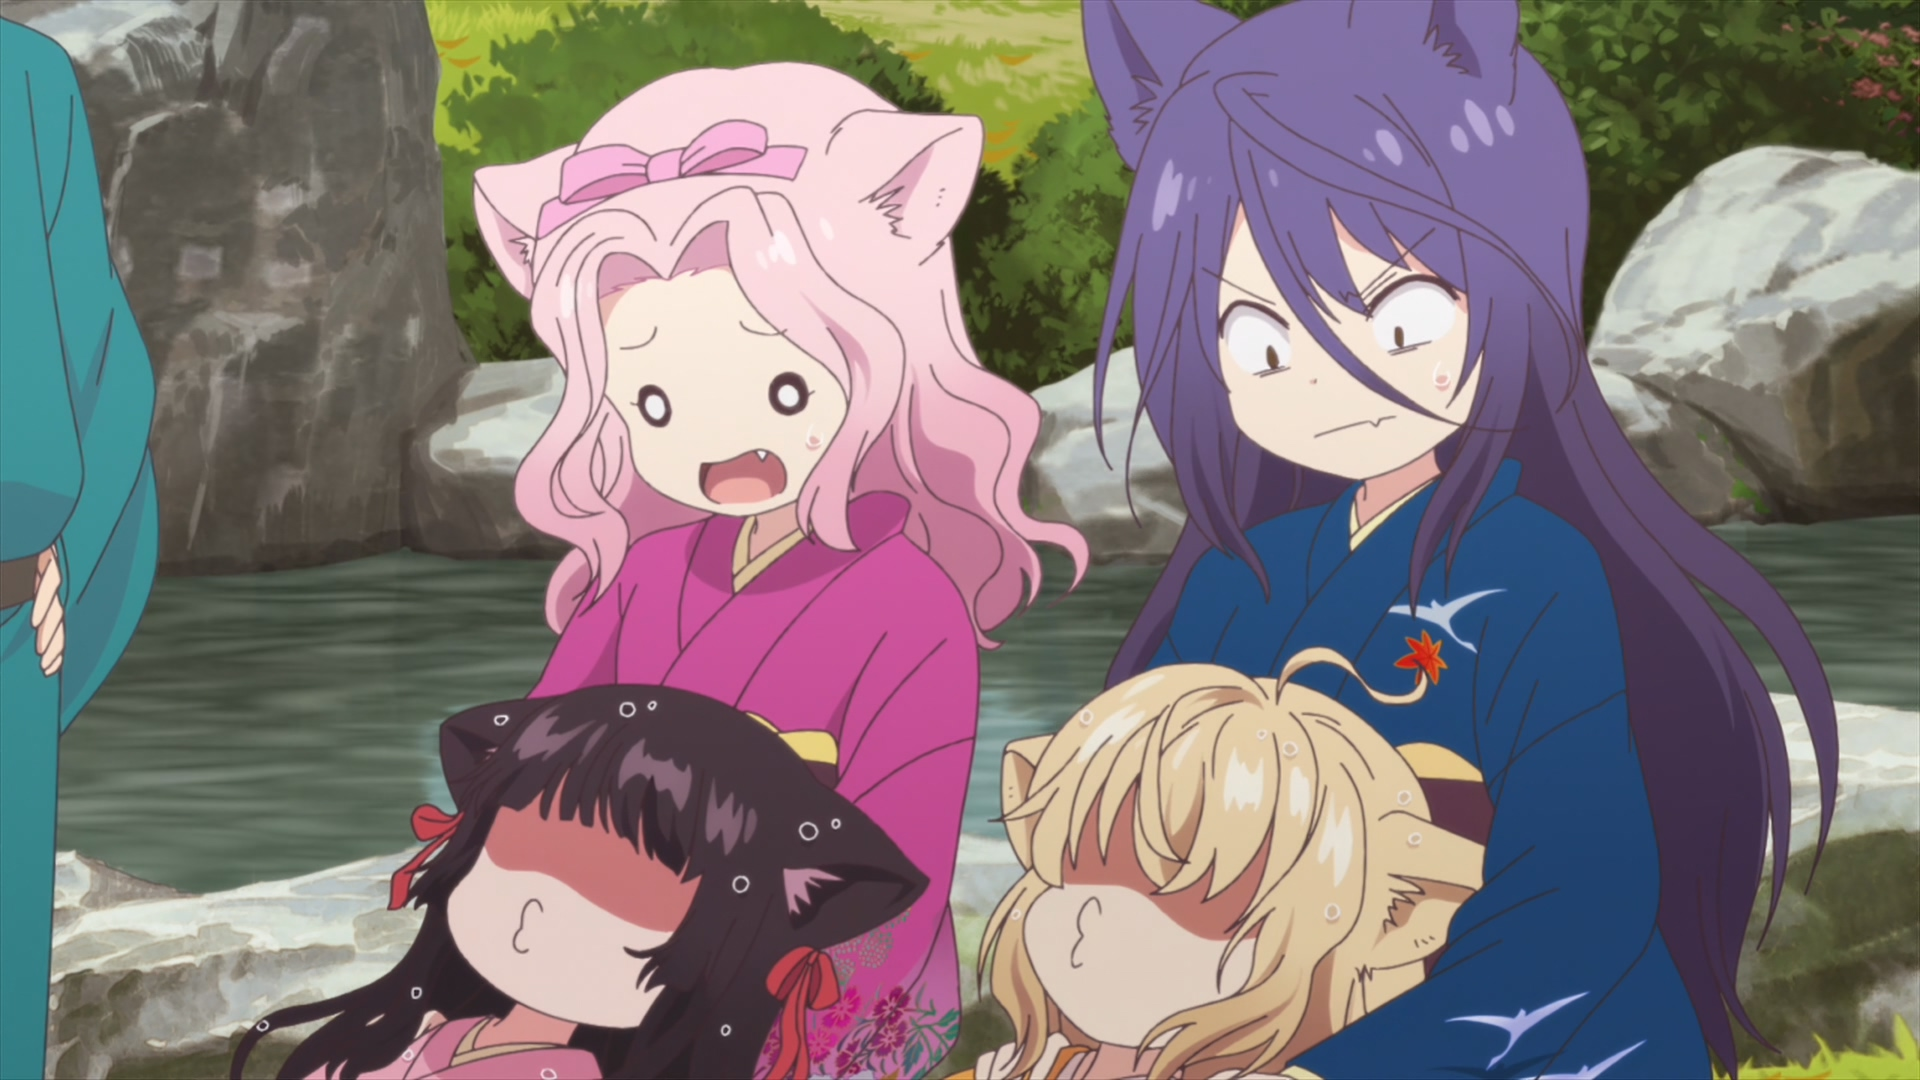枣: (1, 1, 161, 1080)
柚: (938, 645, 1487, 1080)
樱: (233, 684, 932, 1080)
皋: (1081, 1, 1840, 1080)
莲: (472, 61, 1089, 1080)
